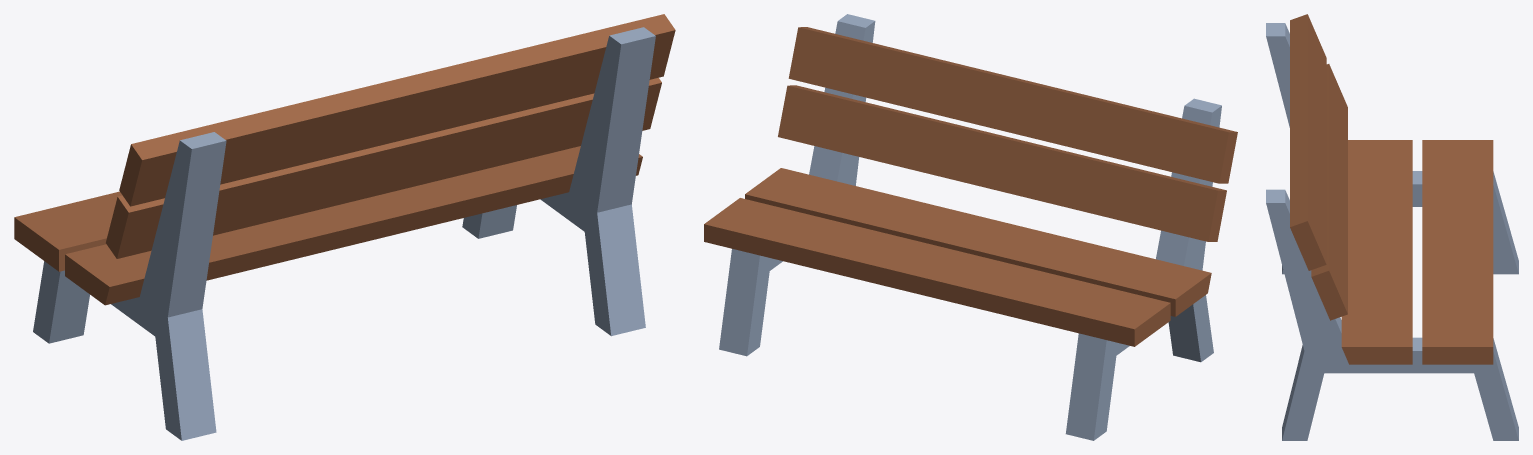
The model's file is bench.fbx.
3 views of the same model, side by side, from view 1: azimuth 30°, elevation 25°; view 2: azimuth 150°, elevation 25°; view 3: azimuth 270°, elevation 25° (orthographic). The views are drawn at different scales.
Parts seen in each view (by area): view 1: Group, bench, Group_2; view 2: Group, Group_2, bench; view 3: Group_2, bench, Group.
Part boxes in pixels (x1,y1,x2,y2): Group: (106, 14, 675, 258); bench: (33, 27, 655, 440); Group_2: (14, 146, 642, 305); Group: (778, 27, 1237, 241); Group_2: (704, 168, 1211, 346); bench: (719, 14, 1221, 440); Group_2: (1341, 140, 1493, 364); bench: (1266, 23, 1518, 440); Group: (1290, 14, 1347, 320).
Bounding box in the file's own units: 706 × 379 × 365.
